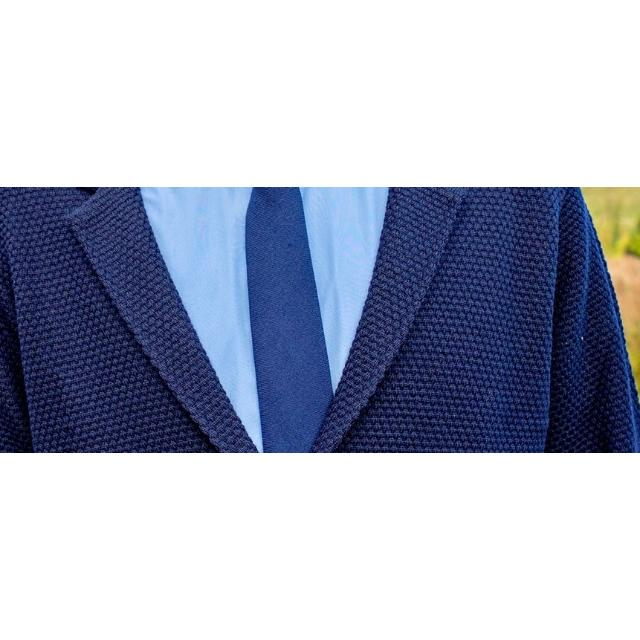wool: (0, 187, 640, 453)
